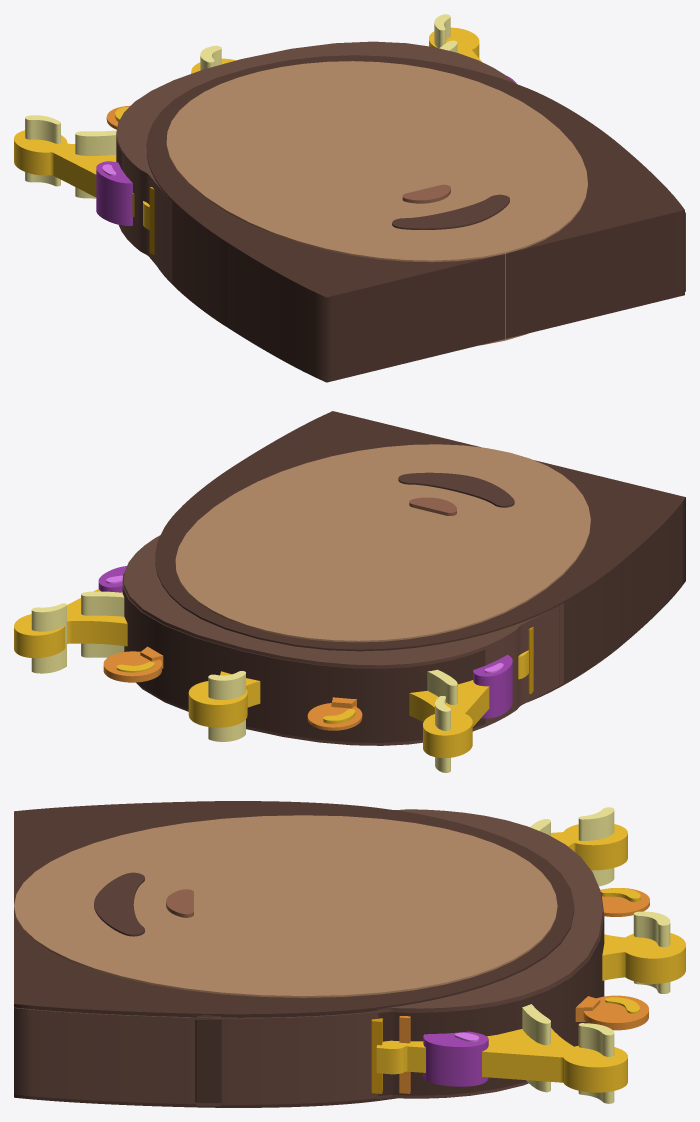
File: emoji_u1f478_1f3fd.glb
The picture shows the model from 3 angles, top to bottom: view 1: azimuth 30°, elevation 25°; view 2: azimuth 150°, elevation 25°; view 3: azimuth 270°, elevation 25°; orthographic projection. The views are drawn at different scales.
Parts seen in each view (by area): view 1: emoji_u1f478_1f3fd; view 2: emoji_u1f478_1f3fd; view 3: emoji_u1f478_1f3fd.
Part boxes in pixels (<box>): emoji_u1f478_1f3fd: <box>14,14,685,382</box>; emoji_u1f478_1f3fd: <box>14,411,685,772</box>; emoji_u1f478_1f3fd: <box>14,801,685,1107</box>.
Bounding box in the file's own units: 0.0292 × 0.0058 × 0.0338.
